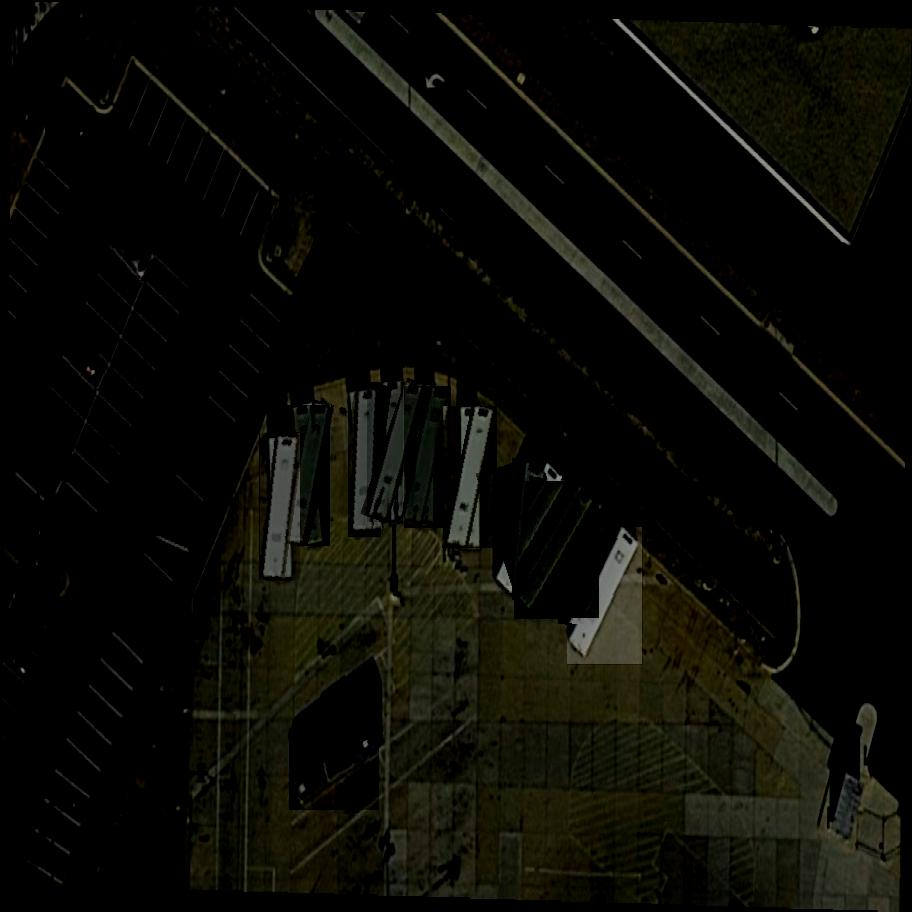large-vehicle: (509, 482, 604, 619), (565, 528, 649, 666), (285, 728, 390, 813), (367, 380, 426, 525), (445, 406, 497, 553), (288, 403, 335, 549), (405, 386, 452, 529), (260, 430, 303, 583), (348, 385, 381, 537), (512, 458, 545, 600)
small-vehicle: (39, 105, 101, 168), (33, 510, 97, 571), (175, 421, 241, 478), (23, 411, 77, 480), (8, 565, 68, 627), (113, 582, 178, 637), (55, 331, 113, 390), (110, 225, 161, 281), (149, 510, 207, 553)
